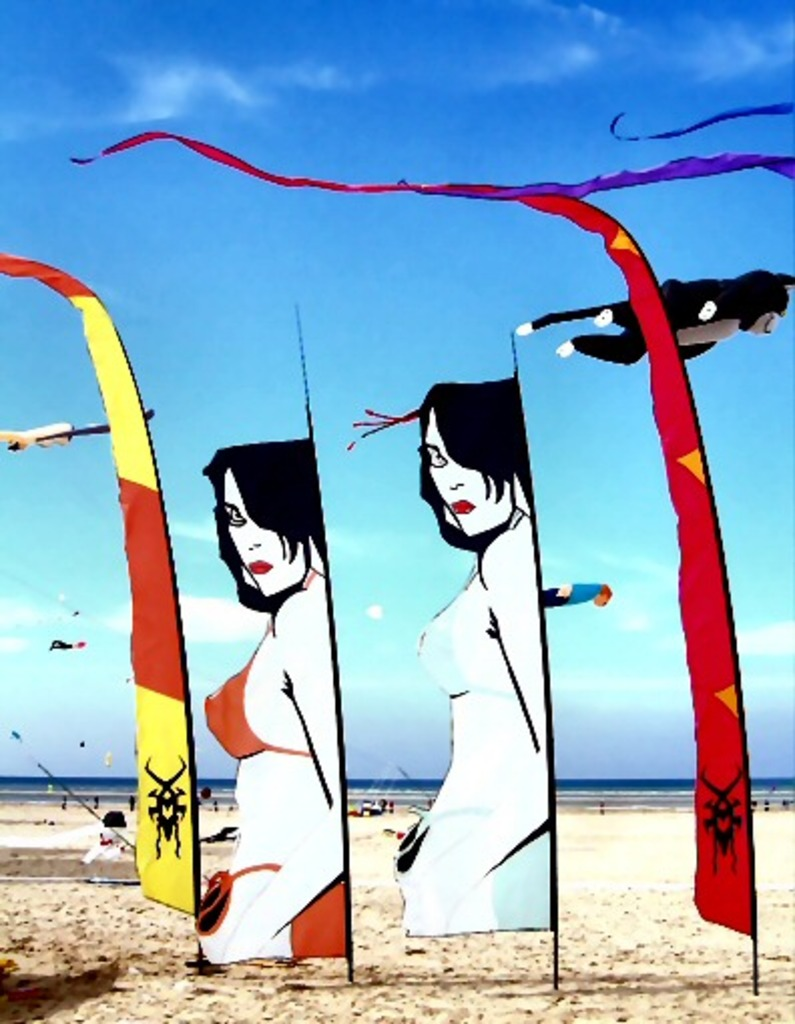Person: (354, 374, 553, 940)
